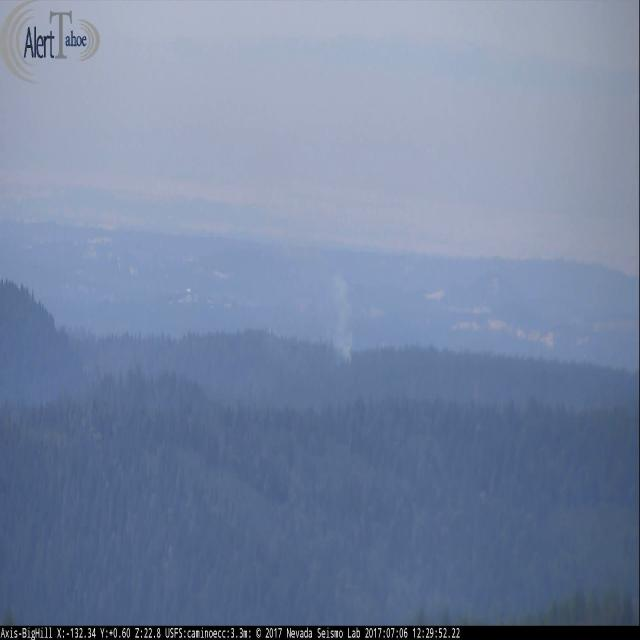smoke: (326, 271, 360, 363)
